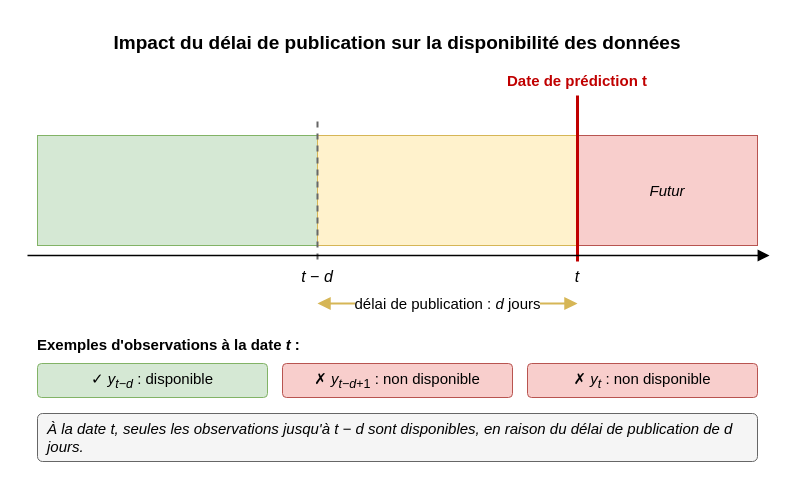
This 797x488 diagram has some shape labels left out. The shapes that lost their labels are listed below. From the top down, each one's box as (x1, y1, x2, y2) in pixels, then its label:
(36, 134, 318, 246): Observations publiées : disponibles à t
(316, 134, 578, 246): Observations pas encore publiées : non disponibles à t
